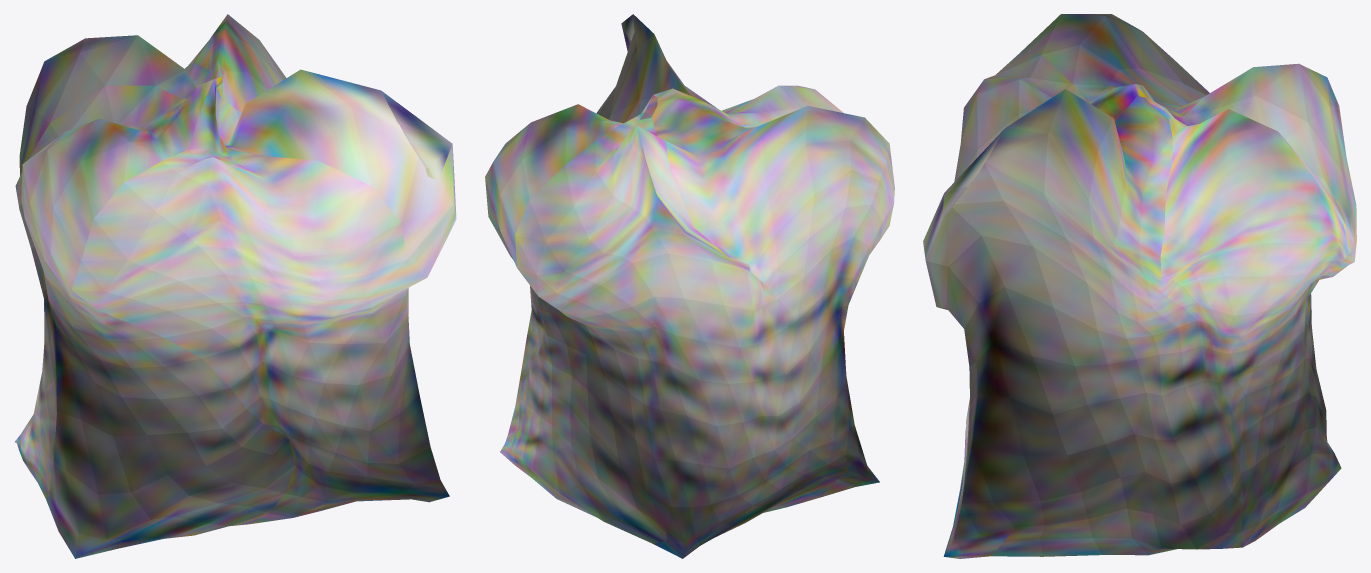
The picture shows the model from 3 angles, left to right: view 1: azimuth 30°, elevation 25°; view 2: azimuth 150°, elevation 25°; view 3: azimuth 270°, elevation 25°; orthographic projection. The views are drawn at different scales.
Visible parts, largest first — view 1: pMesh1; view 2: pMesh1; view 3: pMesh1.
Boxes of the visible parts, x1=… form: pMesh1: x1=15, y1=14, x2=456, y2=558; pMesh1: x1=485, y1=14, x2=894, y2=558; pMesh1: x1=923, y1=14, x2=1356, y2=558.
Bounding box in the file's own units: 1.94 × 2.27 × 2.01.
Materials: 1 (1 with a texture image).
